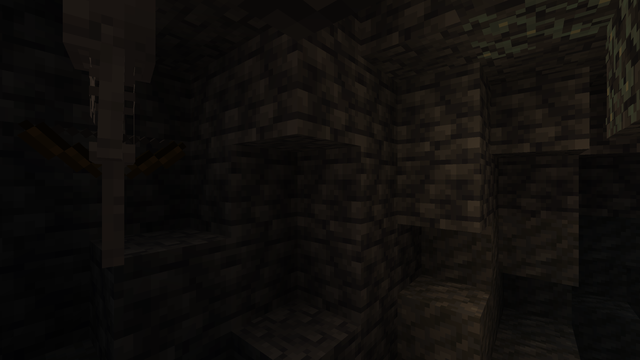squelettes: (54, 1, 170, 281)
